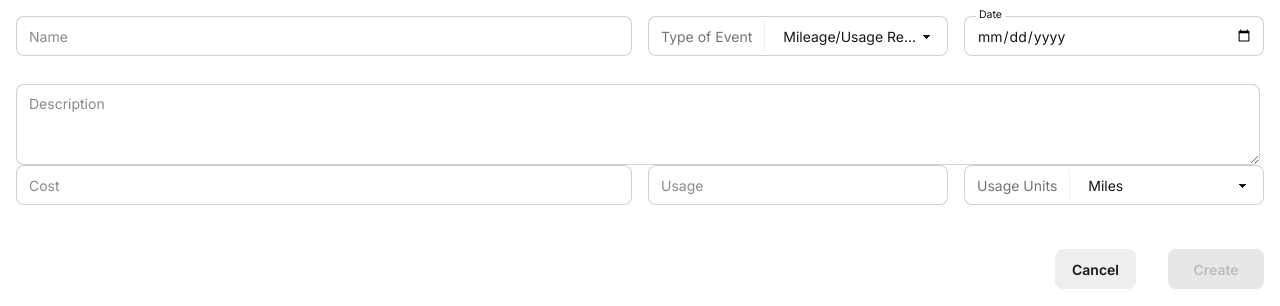
Scenario: Maintenace Item Editor › for create › errors on no date
The image size is (1280, 306).
Click the date field labelled "Date" at (1114, 36), box [964,16,1264,56]
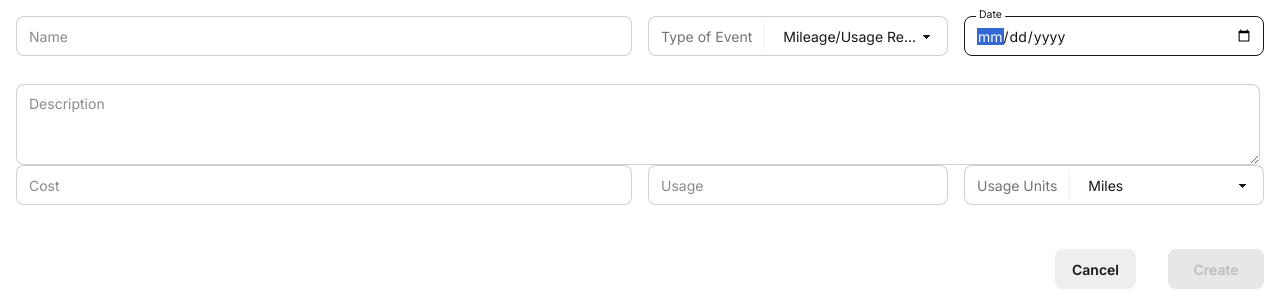
Press Tab
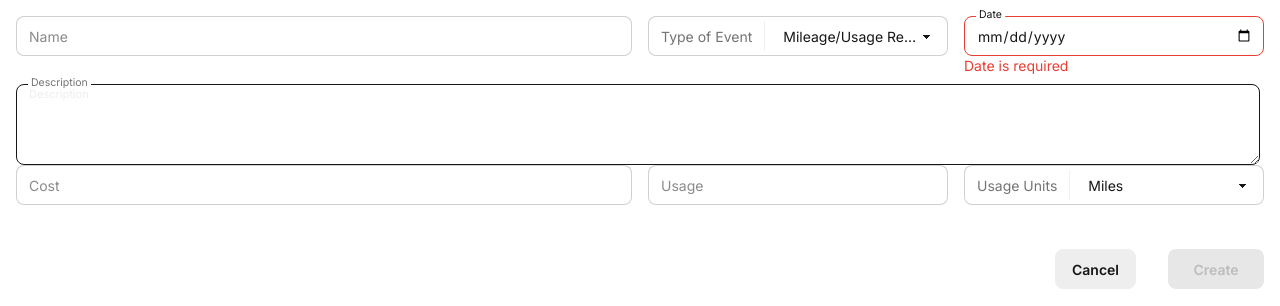
Expected: the text "Date is required" is shown, [964,57,1068,74]
Type "2025-01-15" into the date field labelled "Date" at (1114, 36), box [964,16,1264,56]
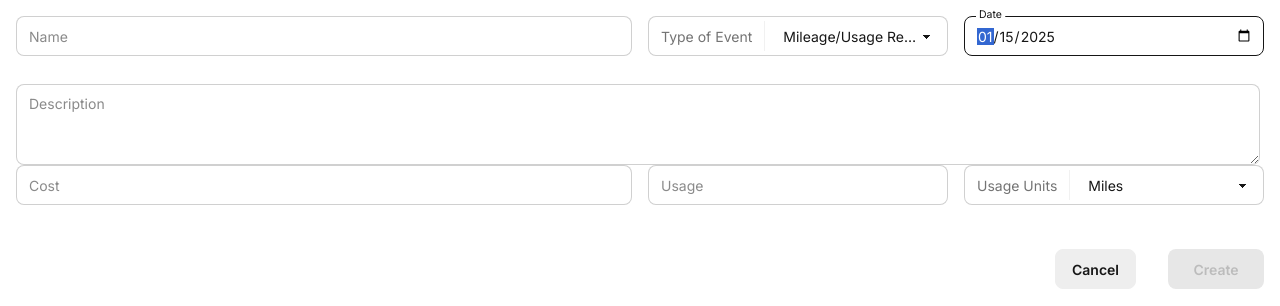
Expected: the text "Date is required" is gone
